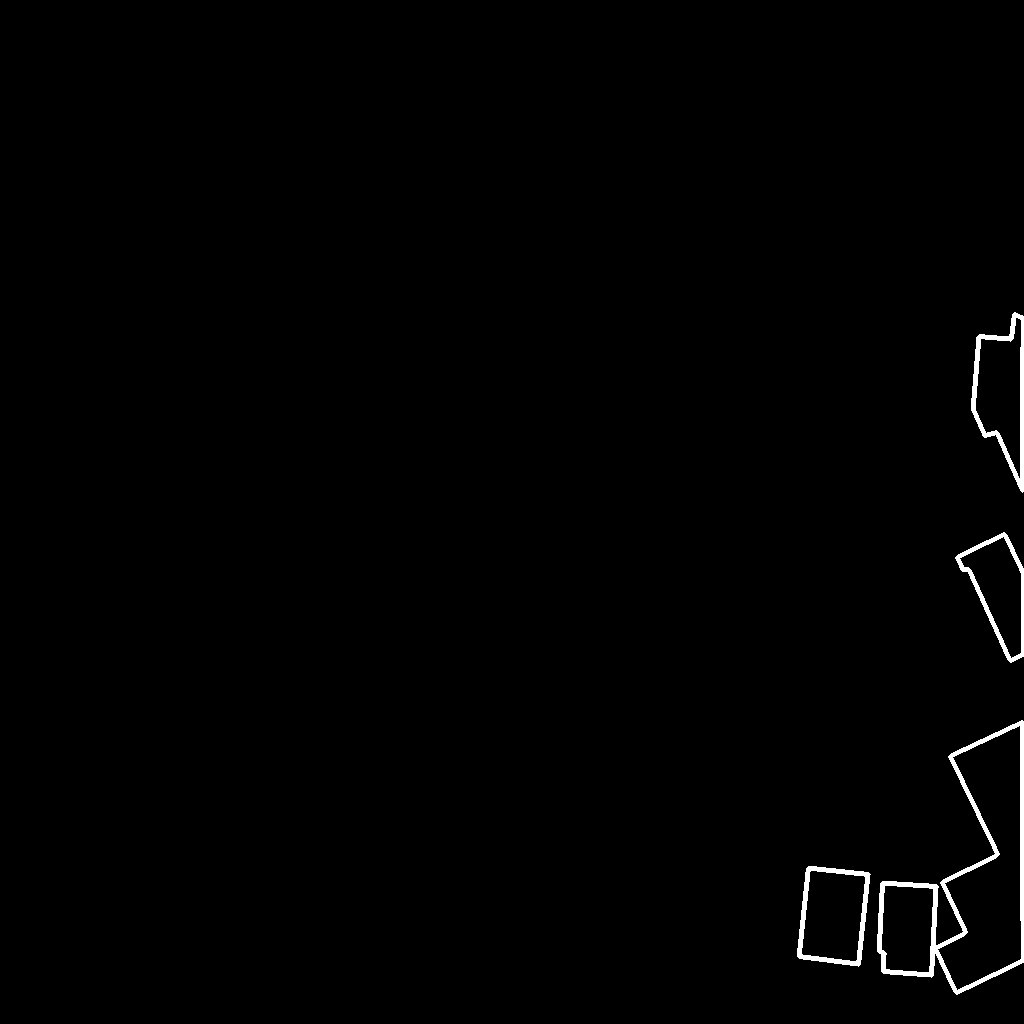building: (935, 722, 1024, 994), (973, 314, 1024, 493), (957, 534, 1024, 662), (799, 868, 869, 965), (879, 883, 937, 976)
